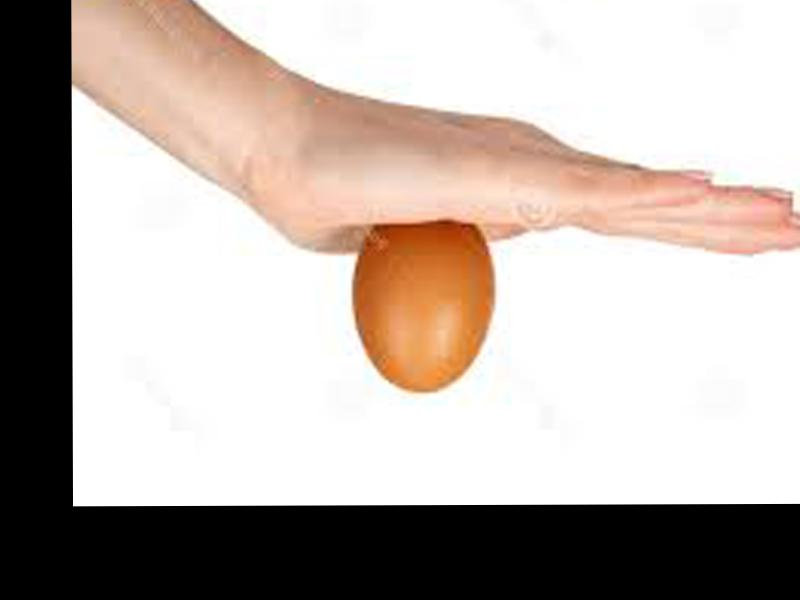Eggs: (355, 216, 495, 392)
